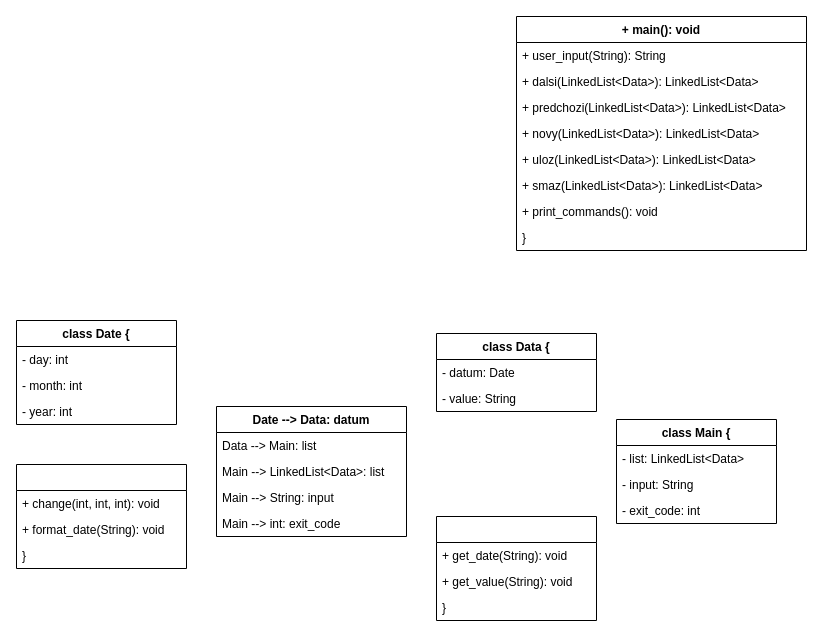
Some shapes in this 823 by 637 pixel diagram are drawn without their labels. Each missing label, with the box of its shape:
+ new(): Data: (436, 516, 596, 620)
+ new(): Date: (16, 464, 186, 568)
